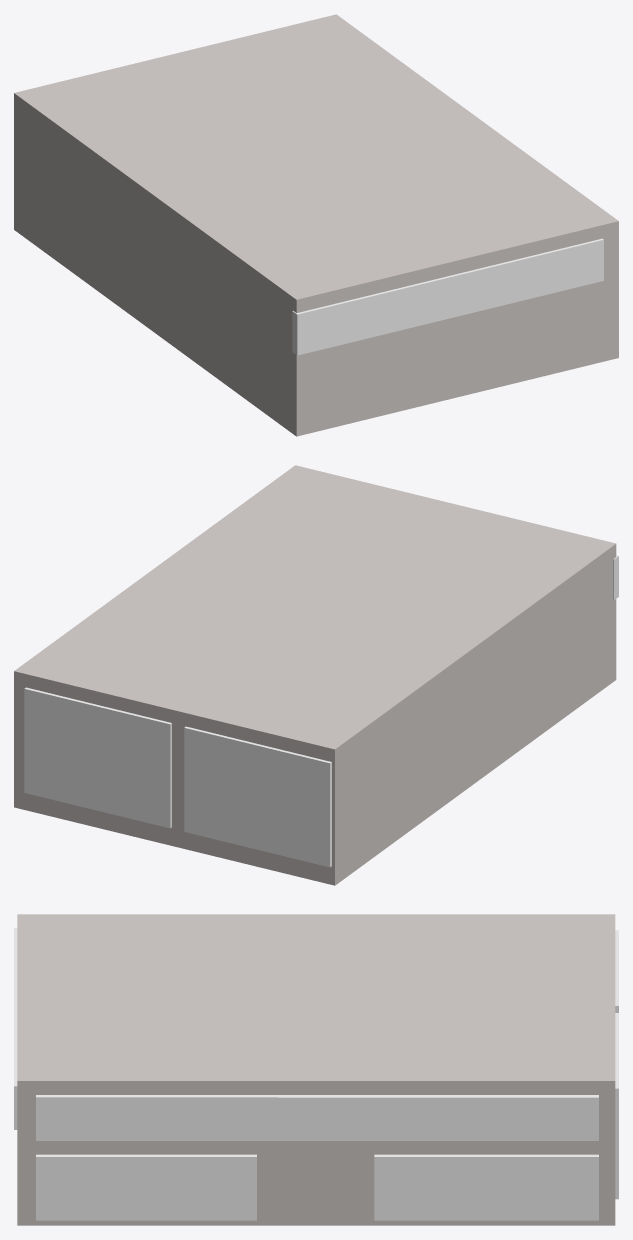
The model's file is piro.glb.
3 renders of one model, top to bottom at view 1: azimuth 30°, elevation 25°; view 2: azimuth 150°, elevation 25°; view 3: azimuth 270°, elevation 25°, orthographic. The views are drawn at different scales.
Visible parts, largest first — view 1: 立方体.018, 立方体.035; view 2: 立方体.018, 立方体.024, 立方体.023; view 3: 立方体.018, 立方体.025, 立方体.028, 立方体.029, 立方体.035, 立方体.023.
Boxes of the visible parts, x1=… form: 立方体.018: x1=14, y1=14, x2=618, y2=436; 立方体.035: x1=292, y1=238, x2=603, y2=355; 立方体.018: x1=14, y1=465, x2=616, y2=885; 立方体.024: x1=184, y1=726, x2=331, y2=867; 立方体.023: x1=24, y1=687, x2=171, y2=828; 立方体.018: x1=17, y1=914, x2=615, y2=1225; 立方体.025: x1=36, y1=1095, x2=598, y2=1140; 立方体.028: x1=374, y1=1154, x2=598, y2=1220; 立方体.029: x1=36, y1=1154, x2=256, y2=1220; 立方体.035: x1=14, y1=928, x2=17, y2=1129; 立方体.023: x1=615, y1=1013, x2=618, y2=1199.
Size of the model in its own units: 4.12 by 1.64 by 6.21.
1 material, 1 textured.
